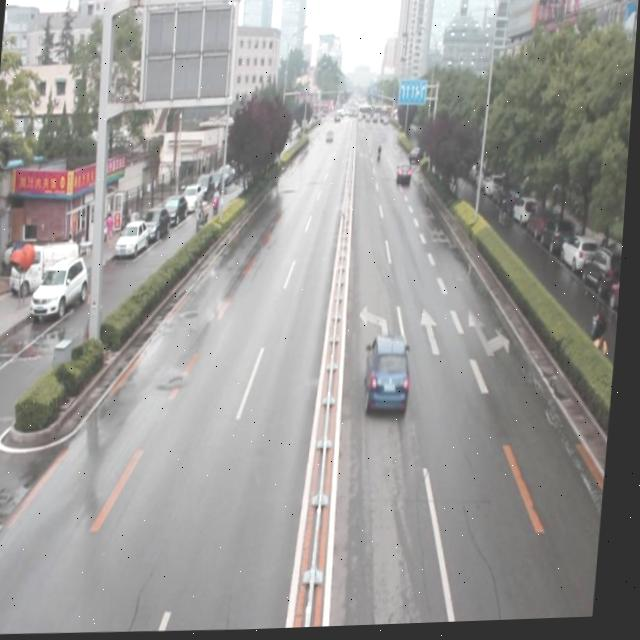car: (366, 334, 418, 417), (397, 163, 412, 187)
